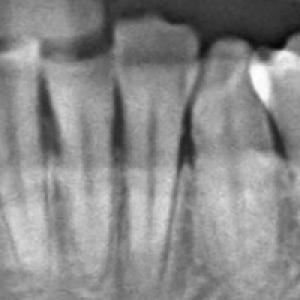tooth: (112, 10, 200, 272), (192, 35, 278, 262), (41, 52, 116, 269)
